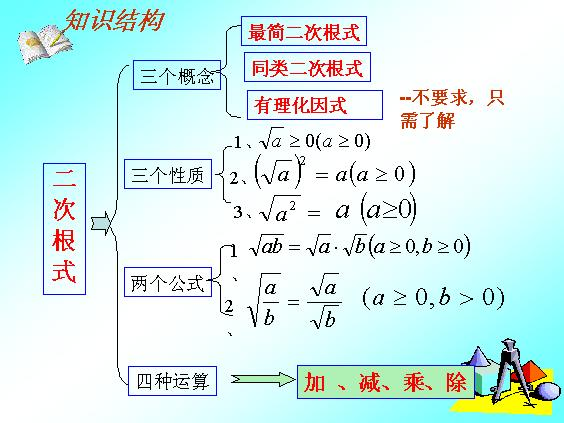division: (305, 300, 343, 309), (261, 299, 280, 306)
sqrt: (248, 271, 284, 331), (259, 192, 301, 225), (247, 231, 285, 261), (262, 158, 293, 187), (311, 303, 340, 333), (258, 123, 287, 152), (306, 231, 332, 261), (311, 271, 342, 296), (343, 232, 368, 259)
square: (296, 153, 307, 168), (287, 200, 296, 213)
